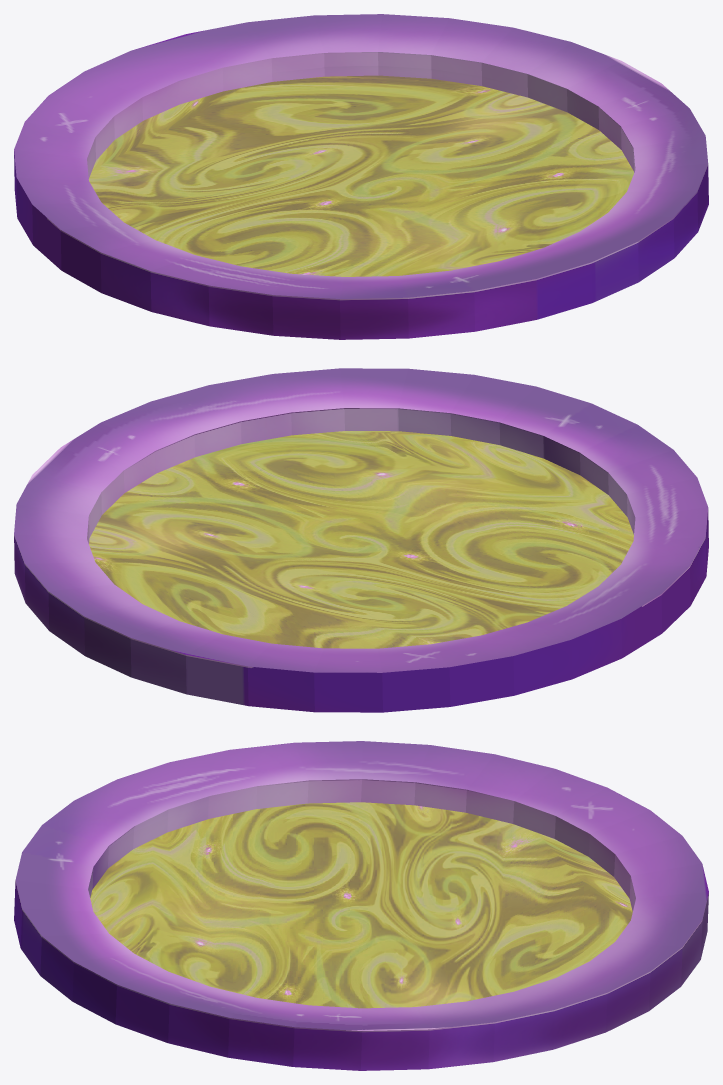
File: derin portal.fbx
3 renders of one model, top to bottom at view 1: azimuth 30°, elevation 25°; view 2: azimuth 150°, elevation 25°; view 3: azimuth 270°, elevation 25°, orthographic.
Parts seen in each view (by area): view 1: Cylinder.006, Plane.006; view 2: Cylinder.006, Plane.006; view 3: Cylinder.006, Plane.006.
Part boxes in pixels (x1,y1,x2,y2): Cylinder.006: (14, 14, 708, 339); Plane.006: (88, 75, 633, 276); Cylinder.006: (14, 368, 708, 712); Plane.006: (89, 431, 633, 648); Cylinder.006: (14, 741, 708, 1070); Plane.006: (90, 802, 632, 1008).
Size of the model in its own units: 4246 by 351 by 4299.
Materials: 2 (2 with a texture image).
